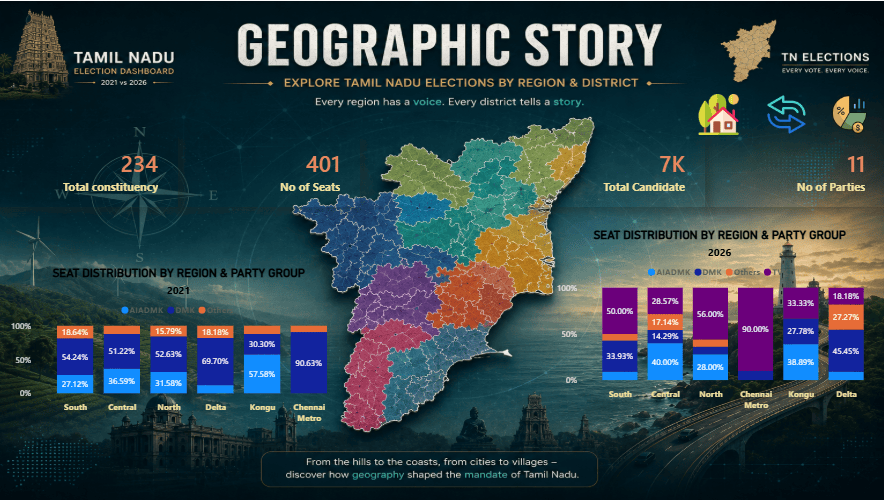

This screenshot's page, from the dashboard's own definition file:
{"tool":"powerbi","page":{"name":"Geographic","canvas":[1280,720],"ordinal":1},"visuals":[{"type":"hundredPercentStackedColumnChart","title":"SEAT DISTRIBUTION BY REGION & PARTY GROUP","fields":{"Category":["Winner Table.region"],"Y":["Winner Table.Seats 2"],"Series":["Winner Table.Party group"]},"box":[800,327.1,480,270],"z":0},{"type":"hundredPercentStackedColumnChart","title":"SEAT DISTRIBUTION BY REGION & PARTY GROUP","fields":{"Category":["Winner Table.region"],"Y":["Winner Table.Seats 1"],"Series":["Winner Table.Party group"]},"box":[14.3,381.4,494.3,234.3],"z":1000},{"type":"cardVisual","fields":{"Data":["CountNonNull(constituency_master.constituency)"]},"box":[0,193.7,261.4,102.9],"z":2000},{"type":"cardVisual","fields":{"Data":["Winner Table.No of Seats"]},"box":[261.4,193.7,261.4,102.9],"z":3000},{"type":"cardVisual","fields":{"Data":["Election.Total Candidate"]},"box":[758.6,193.7,261.4,102.9],"z":4000},{"type":"cardVisual","fields":{"Data":["Election.No of Parties"]},"box":[1018.6,193.7,261.4,102.9],"z":5000},{"type":"image","box":[1097.1,134.3,78.6,58.6],"z":6000},{"type":"image","box":[1188.6,134.3,78.6,58.6],"z":7000},{"type":"image","box":[992.9,134.3,94.3,58.6],"z":9000}]}

Visuals, with their boxes in screenshot pixels (x1, y1, x2, y2), scaled from the page's 1280x720 canvas onto the 884x500 screenshot:
"SEAT DISTRIBUTION BY REGION & PARTY GROUP" hundredPercentStackedColumnChart: [552,227,883,415]
"SEAT DISTRIBUTION BY REGION & PARTY GROUP" hundredPercentStackedColumnChart: [10,265,351,428]
cardVisual - CountNonNull(constituency_master.constituency): [0,135,181,206]
cardVisual - Winner Table.No of Seats: [181,135,361,206]
cardVisual - Election.Total Candidate: [524,135,704,206]
cardVisual - Election.No of Parties: [703,135,883,206]
image: [758,93,812,134]
image: [821,93,875,134]
image: [686,93,751,134]
